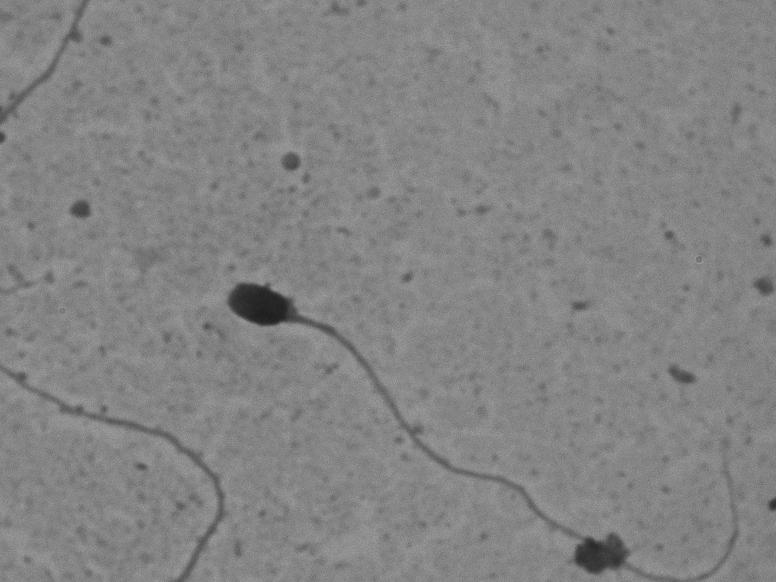Normal: (224, 270, 753, 579)
